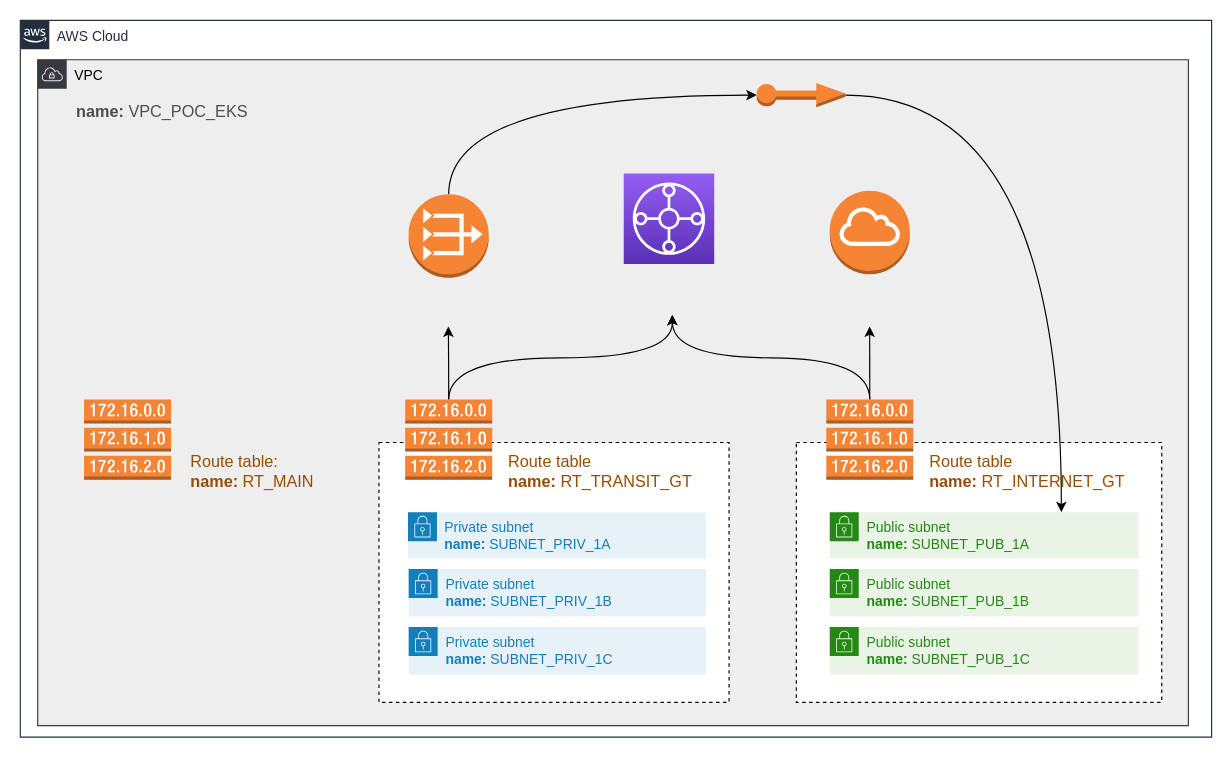
Some shapes in this 1232 by 757 pixel diagram are drawn without their labels. Each missing label, with the centre of its shape:
"Elastic IP Address name: EI_NAT_GT" goes at point 800,94.
"Internet Gateway name: INTERNET_GT" goes at point 869,232.
"NAT Gateway name: NAT_GT_1A" goes at point 448,235.
"Transit Gateway name: TG_COMPANY" goes at point 668,218.
